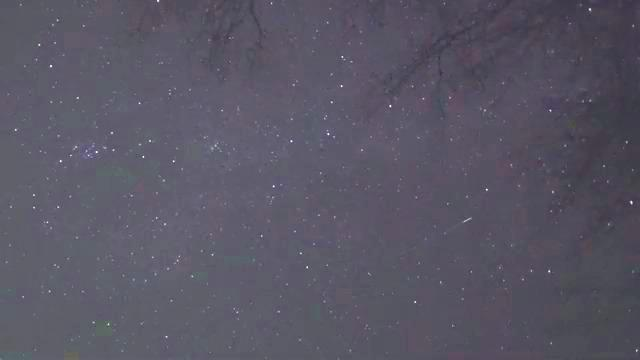meteorite: (438, 214, 487, 230)
